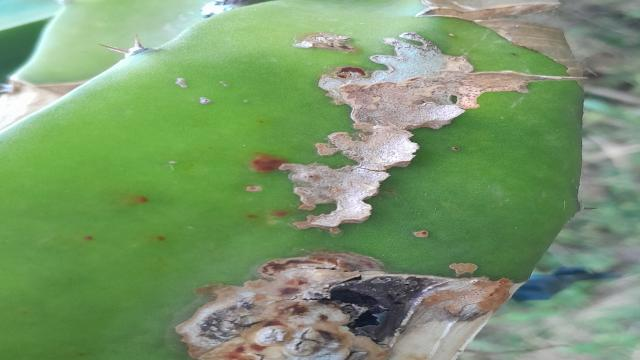stemcanker: (174, 32, 504, 248)
